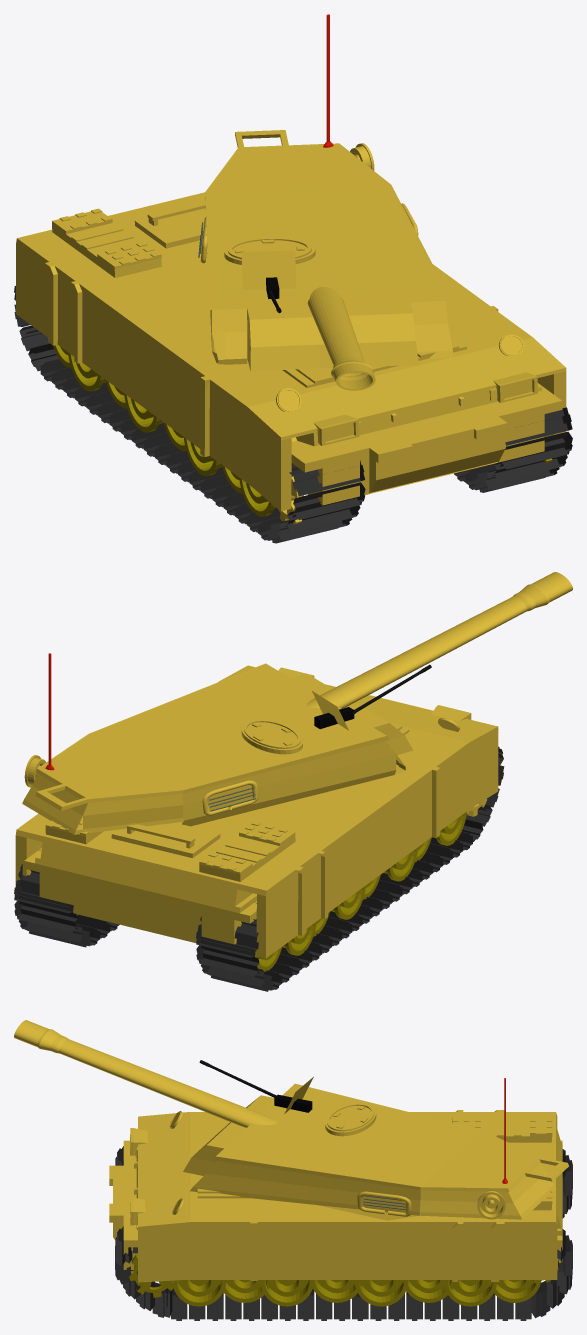
The model's file is Abrams.fbx.
The picture shows the model from 3 angles, top to bottom: view 1: azimuth 30°, elevation 25°; view 2: azimuth 150°, elevation 25°; view 3: azimuth 270°, elevation 25°; orthographic projection. The views are drawn at different scales.
Parts seen in each view (by area): view 1: Abrams; view 2: Abrams; view 3: Abrams.
Boxes of the visible parts, x1=… form: Abrams: x1=14, y1=14, x2=572, y2=543; Abrams: x1=14, y1=572, x2=572, y2=991; Abrams: x1=14, y1=1020, x2=572, y2=1320.
Size of the model in its own units: 232 by 211 by 439.
